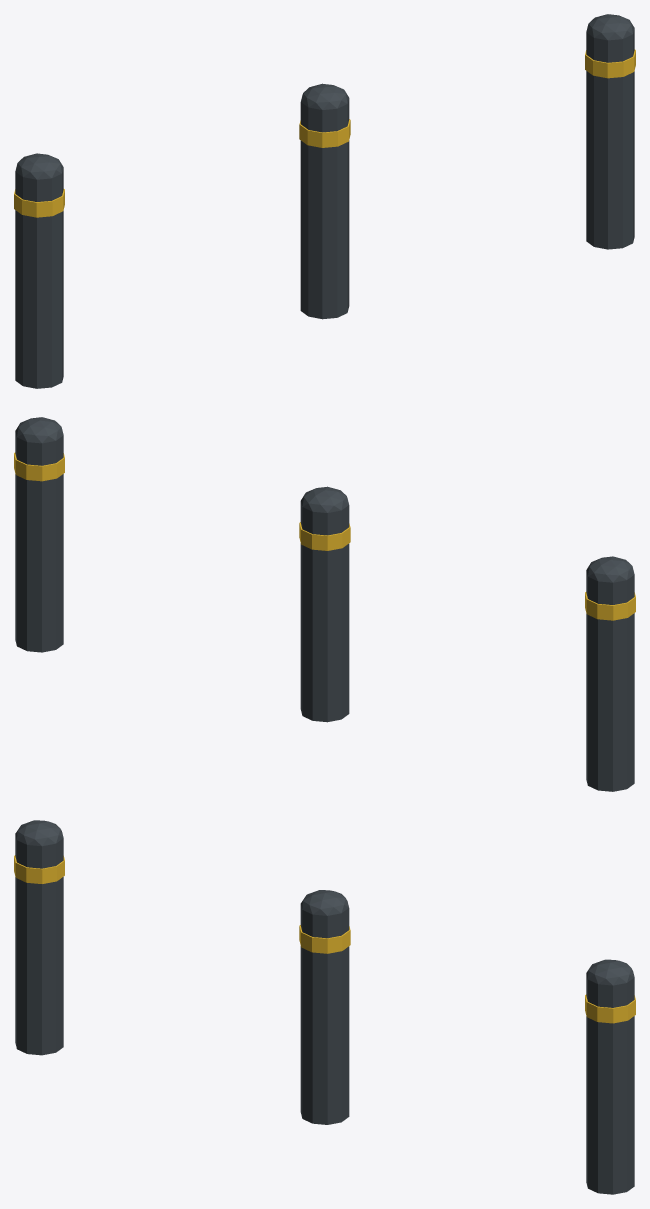
Rendered from BollardRow.fbx.
3 renders of one model, top to bottom at view 1: azimuth 30°, elevation 25°; view 2: azimuth 150°, elevation 25°; view 3: azimuth 330°, elevation 25°, orthographic.
Visible parts, largest first — view 1: BollardRow; view 2: BollardRow; view 3: BollardRow.
Boxes of the visible parts, x1,y1,x2,y2 form: BollardRow: [14, 14, 635, 388]; BollardRow: [14, 417, 635, 791]; BollardRow: [14, 820, 635, 1194].
Bounding box in the file's own units: 2.58 × 0.89 × 0.19.
